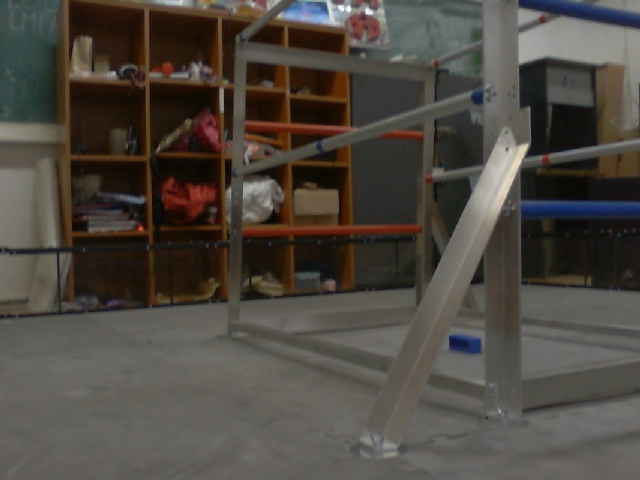BlueSample: (447, 330, 485, 359)
